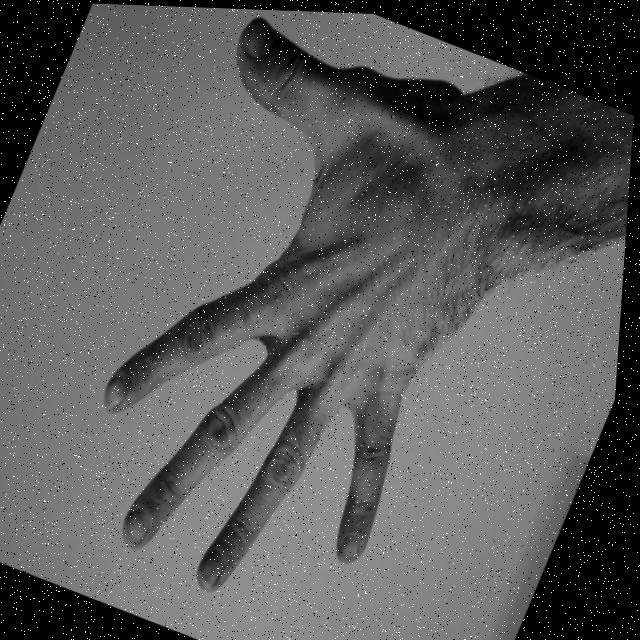no-gloves: (34, 2, 549, 640)
